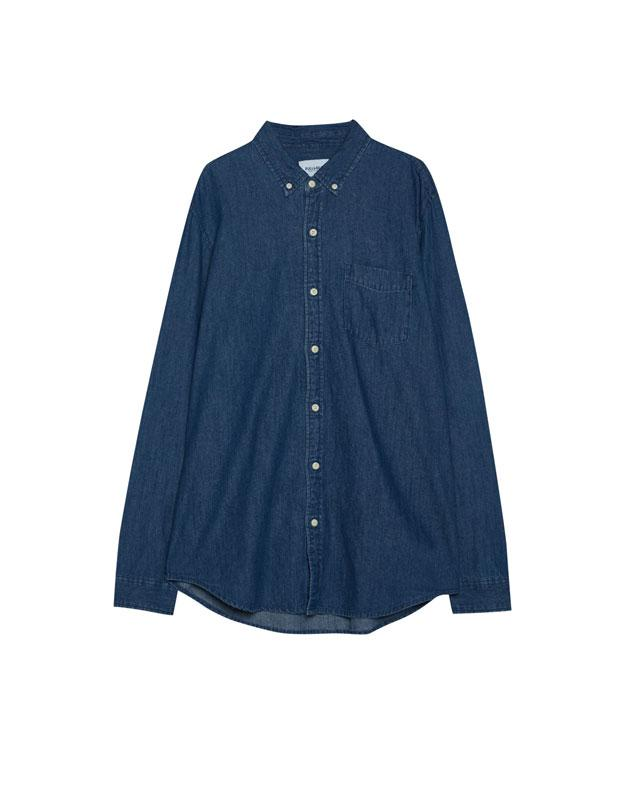teeshirt: (111, 112, 520, 674)
